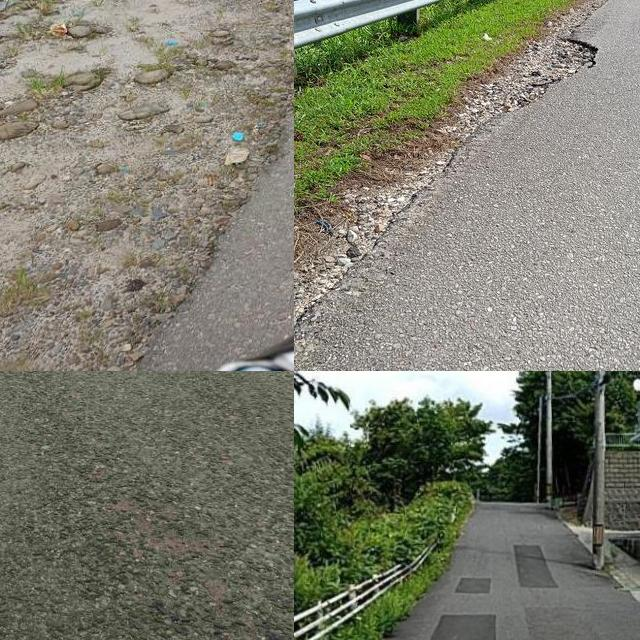Pinggir: (294, 14, 640, 371), (56, 0, 294, 371)
Sambungan: (510, 543, 559, 588), (458, 577, 492, 598)
